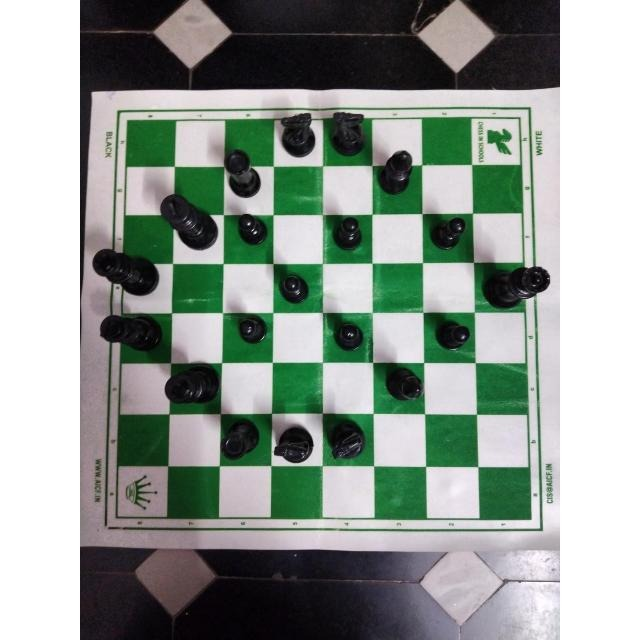black-bishop: (375, 141, 418, 198), (376, 365, 428, 411)
black-king: (88, 244, 168, 300), (159, 190, 221, 254), (161, 364, 225, 412), (95, 312, 166, 354)
black-knight: (326, 106, 370, 162), (274, 413, 318, 467), (276, 110, 320, 162), (326, 414, 368, 462)
black-pawn: (425, 211, 474, 256), (427, 313, 472, 361), (234, 311, 274, 351), (328, 213, 367, 253), (232, 210, 271, 249), (276, 268, 312, 308), (331, 317, 367, 353)
black-queen: (475, 263, 551, 313)
black-rook: (220, 148, 267, 200), (214, 419, 263, 463)
